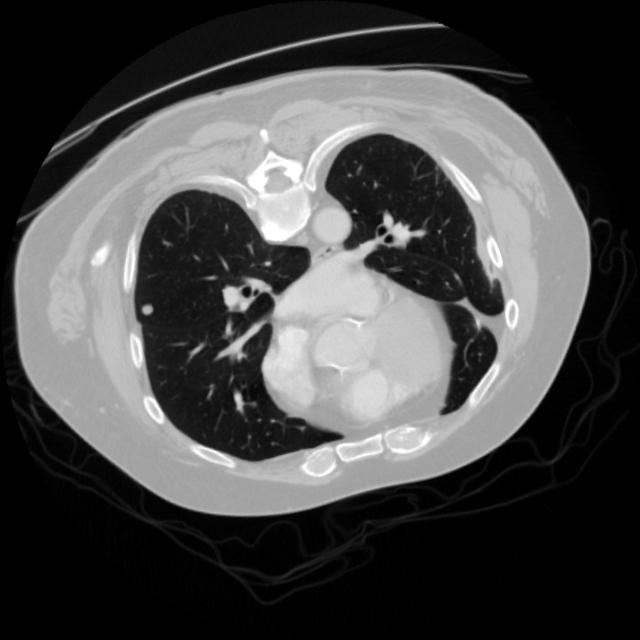nodule: (128, 292, 162, 326)
